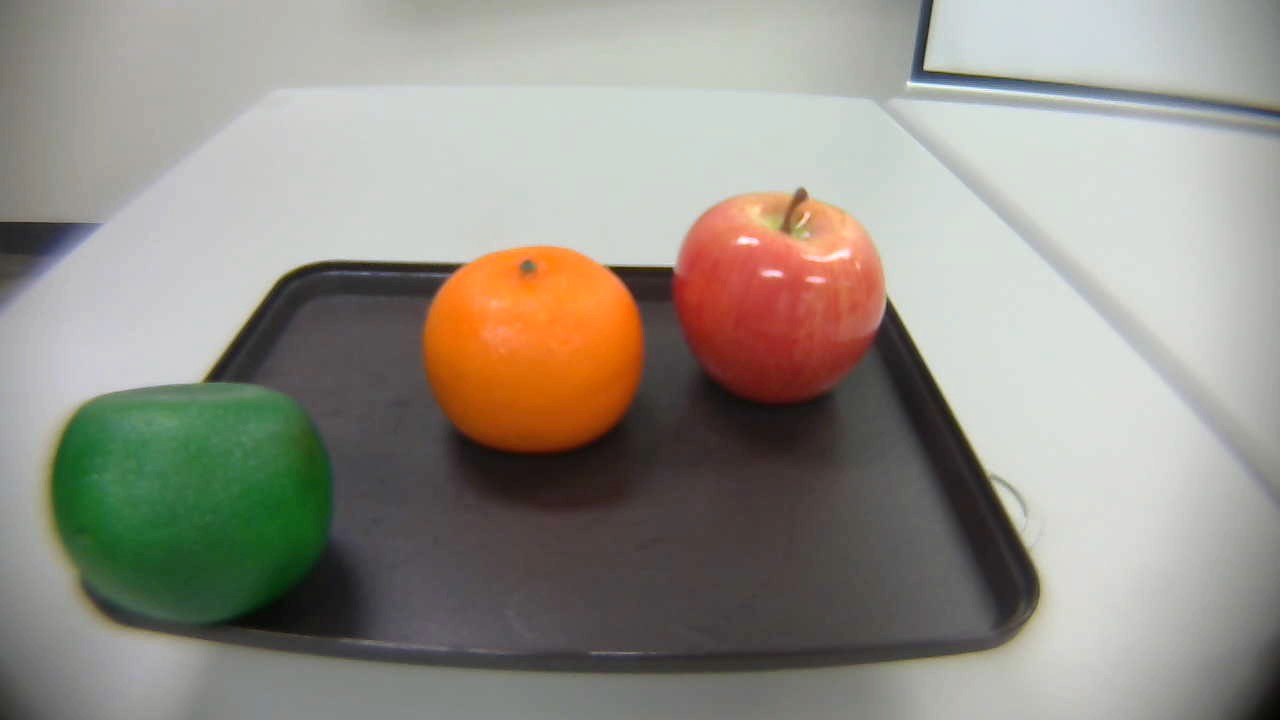green orange: (48, 368, 340, 638)
orange: (407, 245, 649, 453)
red apple: (672, 182, 888, 419)
